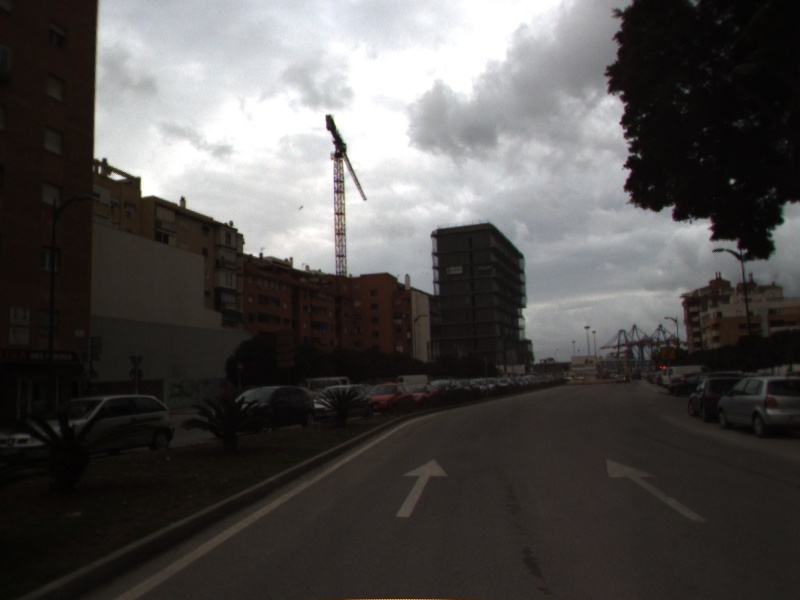STRAIGHT: (604, 456, 710, 524), (393, 456, 452, 519)
